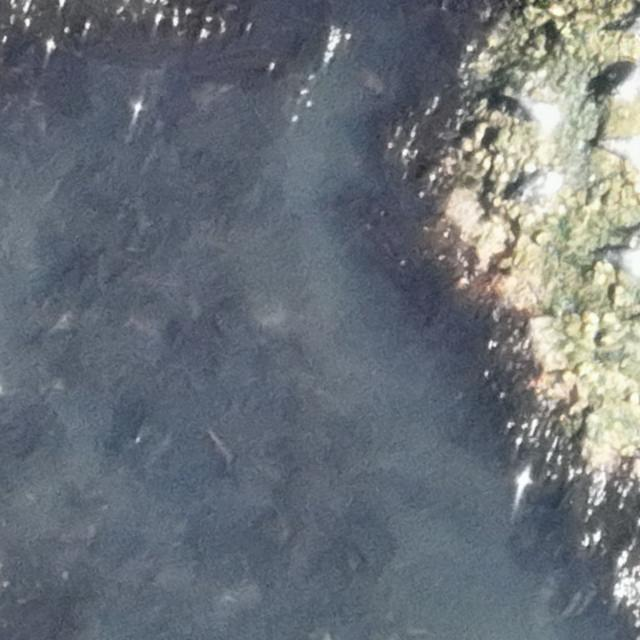umineko: (518, 173, 565, 202), (522, 95, 562, 126), (598, 246, 640, 274)
